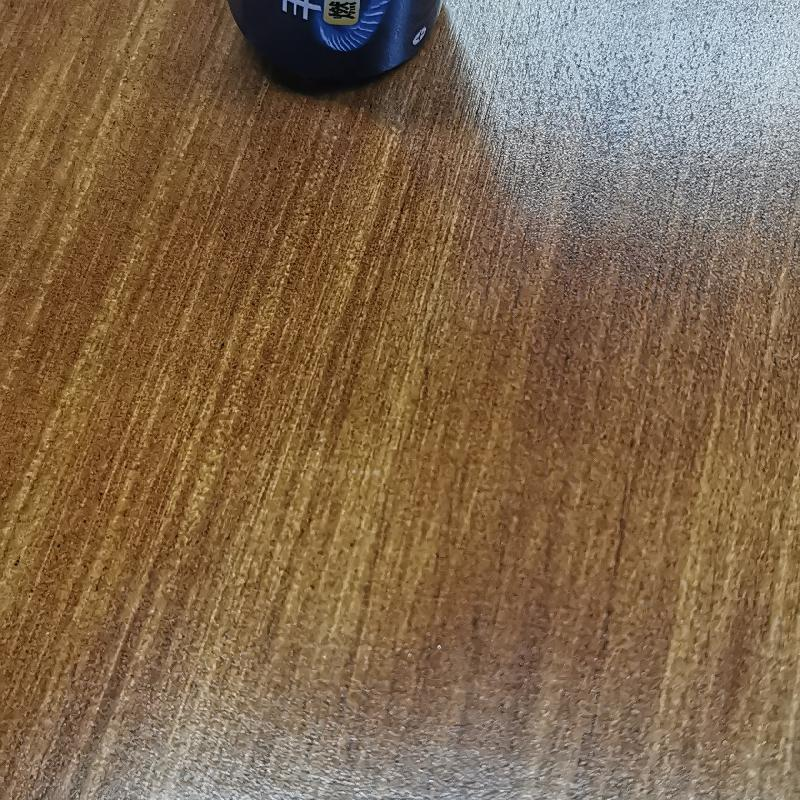battery: (220, 0, 448, 96)
